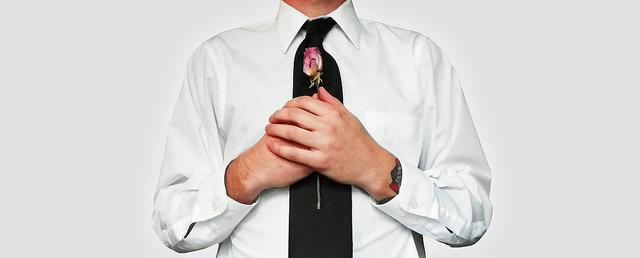hand: (263, 68, 506, 241), (122, 108, 317, 245), (262, 79, 414, 210), (206, 118, 317, 199)
